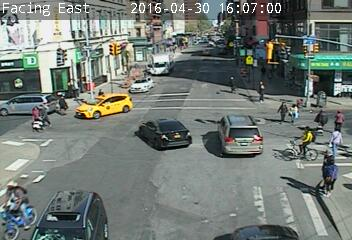neg: (147, 114, 176, 153), (215, 112, 240, 146), (296, 121, 318, 151), (178, 183, 196, 207), (57, 191, 74, 214), (126, 67, 143, 90), (319, 52, 334, 73), (80, 107, 95, 126), (37, 137, 51, 156), (188, 73, 202, 91), (5, 135, 18, 153), (245, 51, 257, 66), (230, 51, 240, 66), (211, 49, 219, 59), (98, 65, 105, 75), (180, 39, 186, 47)
pos: (315, 154, 346, 195), (310, 147, 339, 187), (310, 105, 332, 135), (326, 128, 348, 157), (251, 78, 273, 107), (25, 100, 47, 129), (50, 90, 71, 118), (275, 98, 293, 123), (36, 100, 54, 124), (224, 72, 242, 95), (330, 108, 347, 131), (287, 104, 302, 124), (95, 88, 105, 100)
